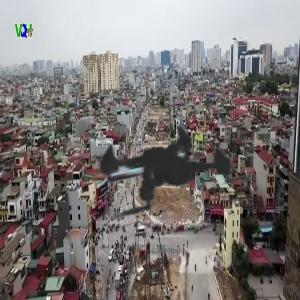drone: (33, 28, 292, 287)
